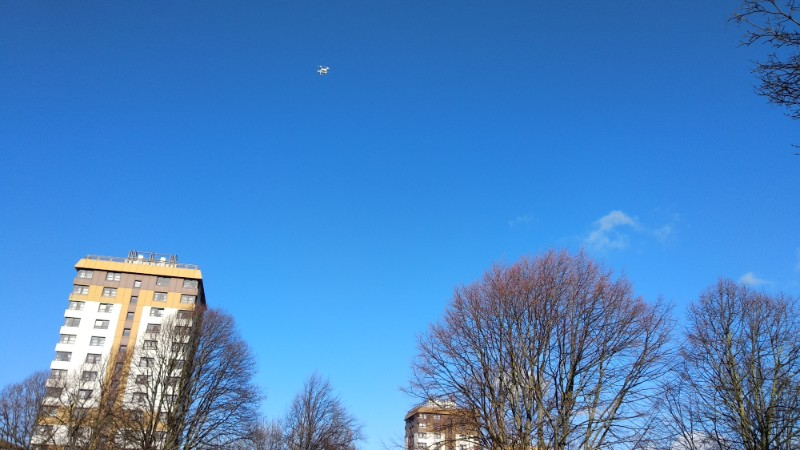drone: (315, 64, 331, 77)
